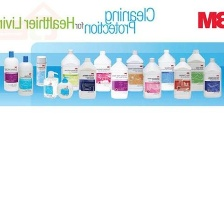cleaning_solution: (58, 47, 82, 92), (76, 55, 99, 100), (201, 56, 223, 99), (185, 47, 206, 92), (141, 55, 162, 99), (125, 48, 145, 93), (109, 56, 129, 100), (156, 48, 176, 92), (172, 56, 192, 100), (92, 49, 112, 92), (1, 51, 21, 92), (16, 54, 35, 96), (41, 69, 60, 101), (54, 75, 75, 100), (34, 54, 48, 87)
